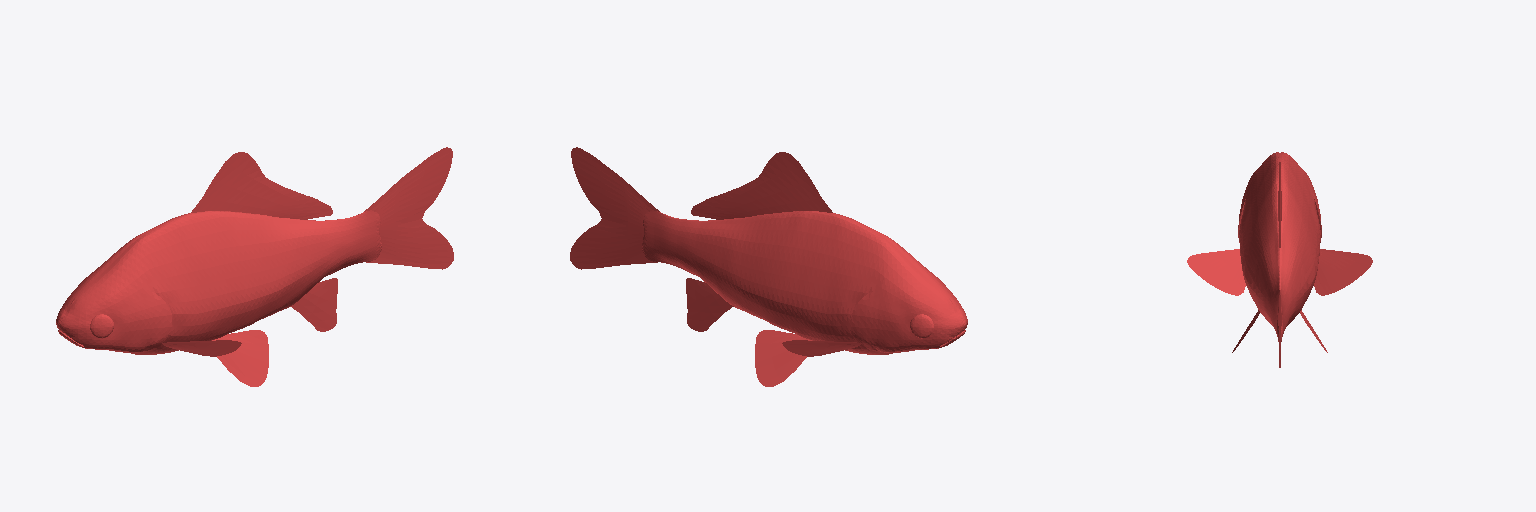
Rendered from fish.obj.
3 views of the same model, side by side, from view 1: azimuth 30°, elevation 25°; view 2: azimuth 150°, elevation 25°; view 3: azimuth 270°, elevation 25° (orthographic).
Visible parts, largest first — view 1: object, object8, object2, object5, object7, object3; view 2: object, object8, object2, object6, object7, object4; view 3: object, object4, object3.
Part boxes in pixels (left/top/right/bottom): object: left=56, top=210, right=381, bottom=354; object8: left=364, top=147, right=453, bottom=269; object2: left=191, top=152, right=332, bottom=219; object5: left=212, top=330, right=268, bottom=386; object7: left=290, top=278, right=337, bottom=331; object3: left=162, top=340, right=241, bottom=356; object: left=642, top=210, right=967, bottom=354; object8: left=570, top=147, right=659, bottom=269; object2: left=691, top=152, right=832, bottom=219; object6: left=755, top=330, right=811, bottom=386; object7: left=686, top=278, right=733, bottom=331; object4: left=782, top=340, right=861, bottom=356; object: left=1238, top=152, right=1321, bottom=341; object4: left=1314, top=249, right=1372, bottom=295; object3: left=1187, top=249, right=1245, bottom=295.
Bounding box in the file's own units: 400 × 208 × 162.